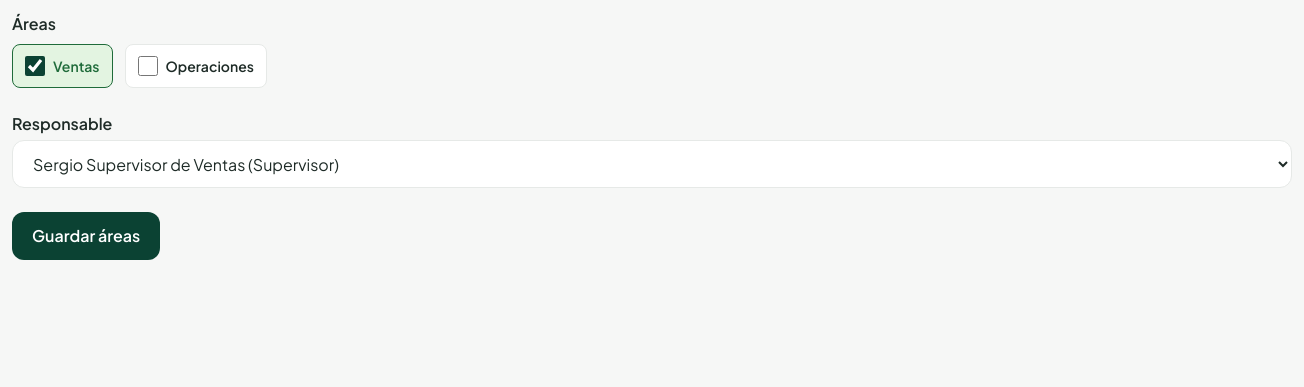
ChangeAreasForm (spec 003, R3 a R5; plan 003, 6.2) › E6 y spec 008, E16: el responsable actual no se borra; el 400 de la API queda en el campo
Check: the element "Áreas" is shown, box [12,13,267,88]
Check: the dropdown labelled "Responsable" is enabled, box [12,140,1292,188]
Click the checkbox labelled "Ventas". click: (35, 66)
box: [25,56,45,76]
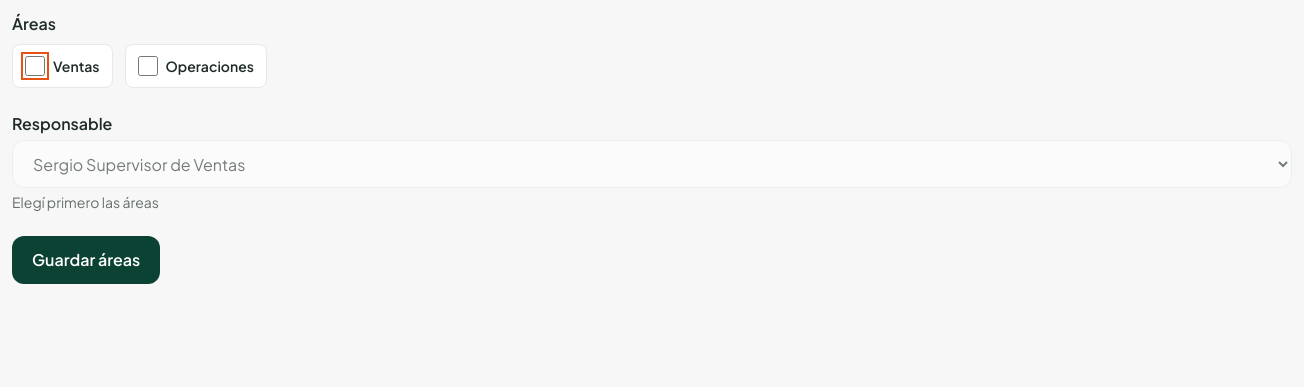
Click the checkbox labelled "Operaciones". click: (148, 66)
box: [138,56,158,76]
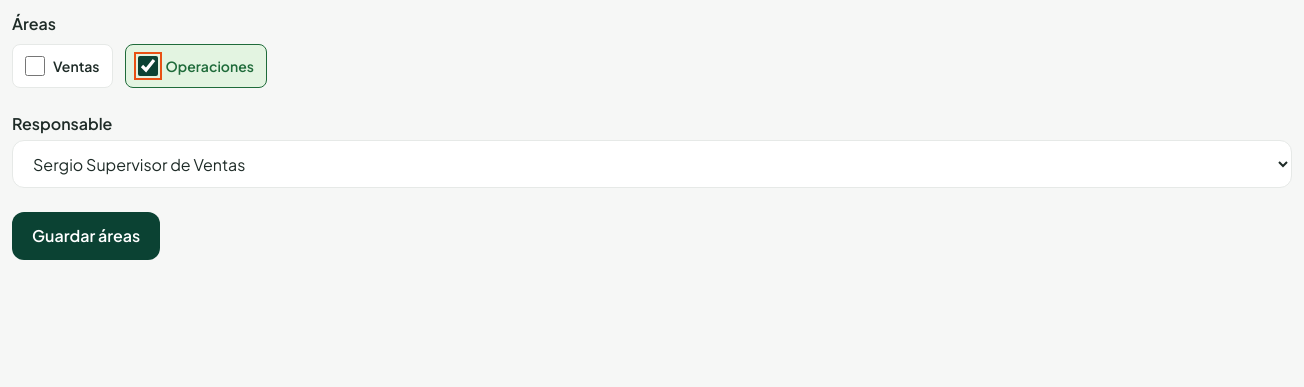
Check: the dropdown labelled "Responsable" shows "Sergio Supervisor de Ventas", box [12,140,1292,188]
Click the button "Guardar áreas". click: (86, 236)
box: [12,212,160,260]
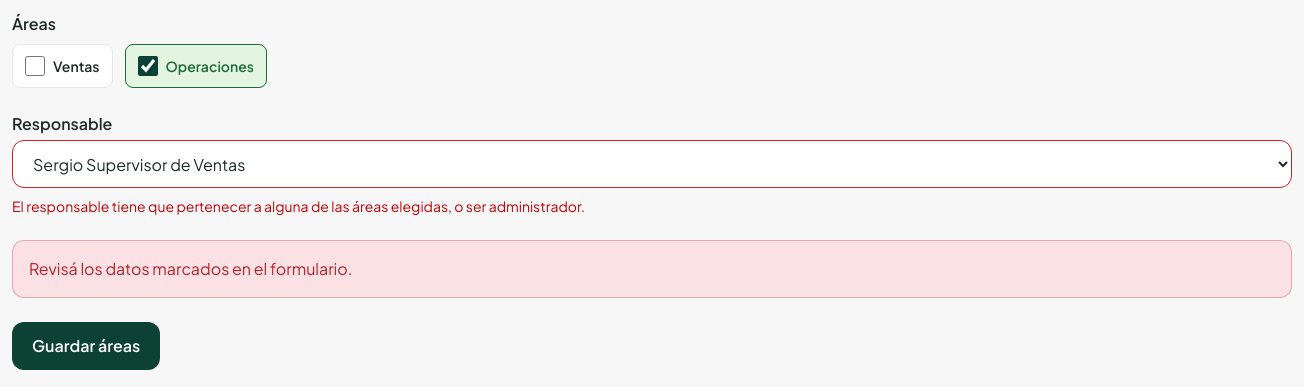
Check: the dropdown labelled "Responsable" shows "Sergio Supervisor de Ventas", box [12,140,1292,188]
Check: the text "El responsable tiene que pertenecer a alguna de las áreas elegidas, o ser administrador." is shown, box [12,197,585,215]
